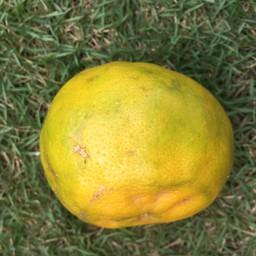Good_orange: (36, 58, 237, 228)
